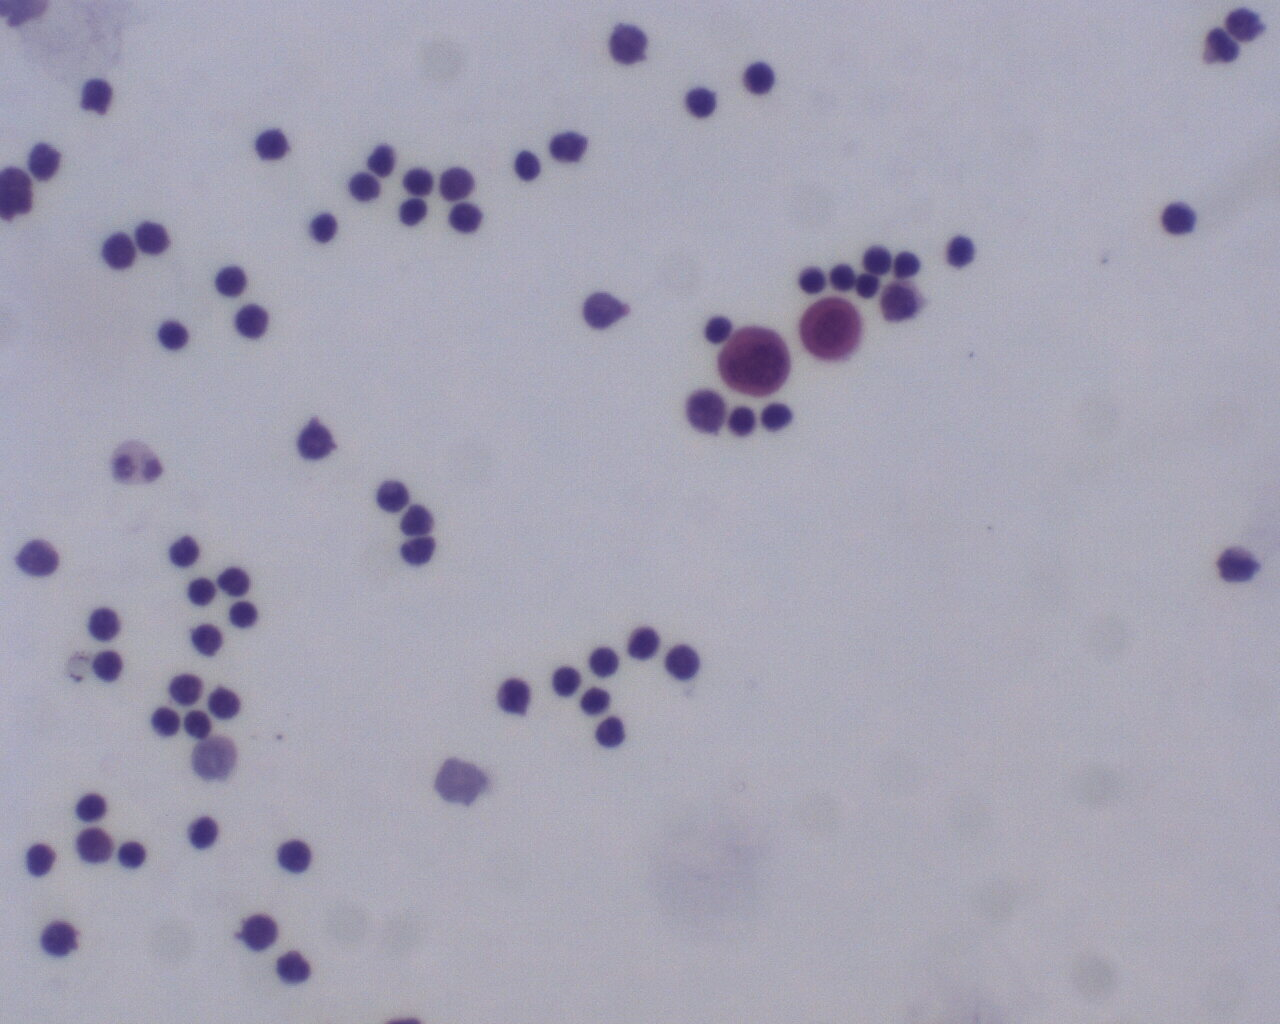ab: (717, 326, 796, 396)
lymph: (1155, 197, 1198, 246), (443, 197, 487, 241), (273, 836, 318, 878), (248, 122, 294, 163), (100, 226, 140, 273), (150, 316, 195, 356), (661, 638, 702, 681), (682, 78, 719, 125), (164, 531, 207, 571), (85, 647, 125, 685), (308, 211, 347, 250), (737, 59, 774, 96), (591, 712, 628, 750), (225, 598, 261, 636), (73, 787, 109, 827), (398, 159, 435, 196), (548, 662, 585, 699), (117, 837, 152, 876)
meso: (797, 296, 863, 364)
